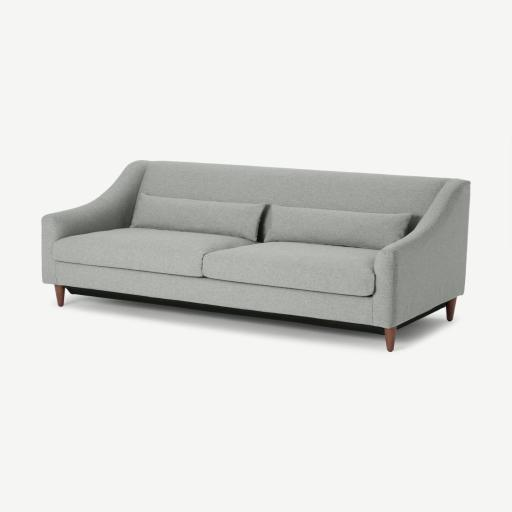back_cushion: (103, 167, 444, 233)
base: (56, 262, 376, 310)
left_arm: (372, 178, 470, 312)
legs: (380, 312, 392, 345), (447, 290, 457, 318), (57, 281, 67, 308), (234, 299, 242, 316)
right_arm: (42, 202, 127, 280)
seat_cushion: (52, 225, 373, 288)
two-seater: (0, 0, 511, 512)
